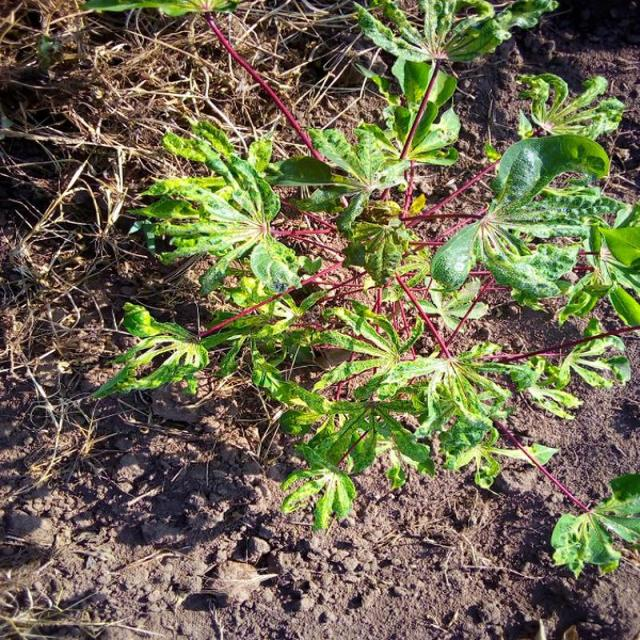cassava leaf: (132, 116, 311, 299), (430, 132, 612, 300), (490, 132, 610, 209)
